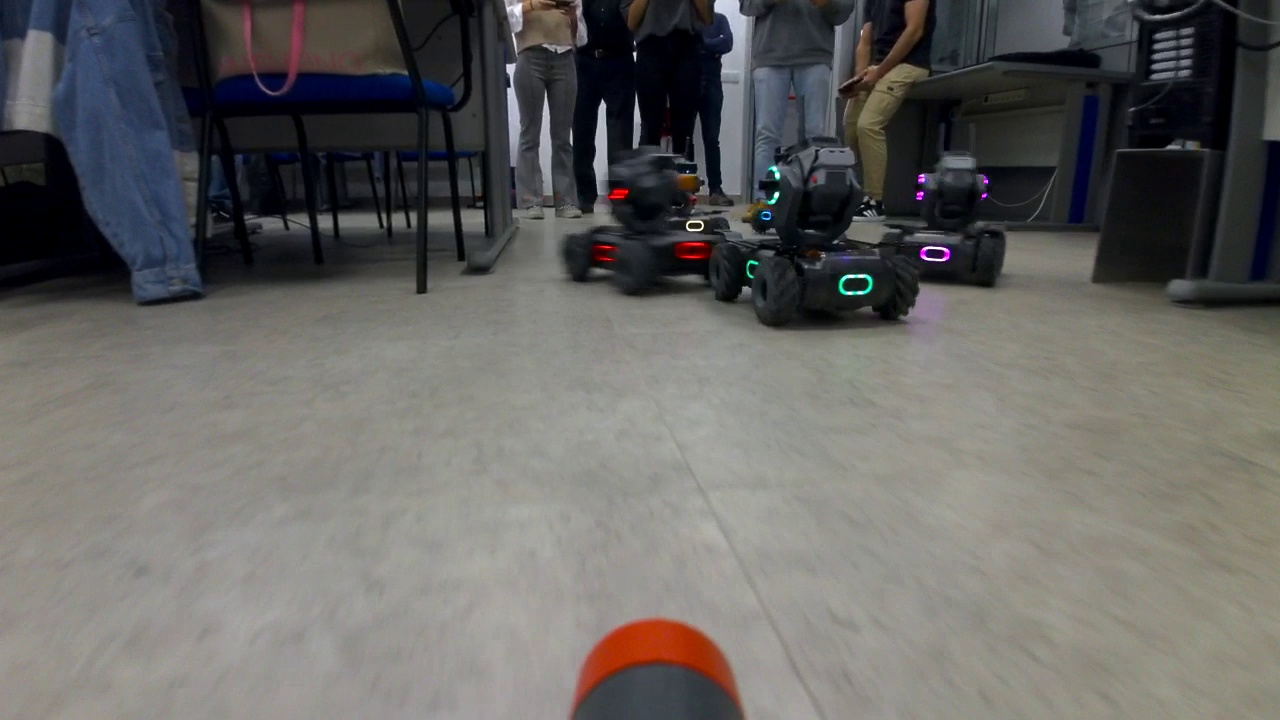robot: (710, 137, 915, 330), (558, 151, 740, 298), (881, 148, 1008, 291)
